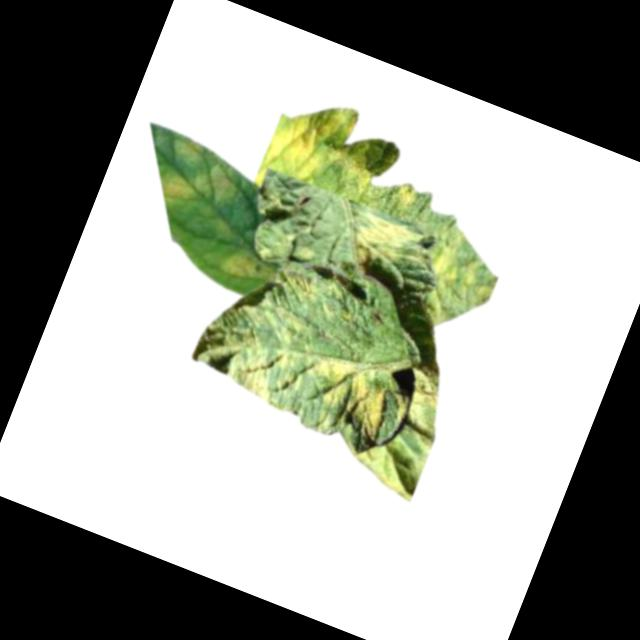Leaf_Mold: (259, 81, 392, 204), (409, 223, 511, 342), (291, 345, 401, 453), (148, 142, 246, 221), (341, 208, 423, 288), (217, 329, 296, 406), (395, 354, 453, 414), (218, 240, 280, 292), (276, 265, 321, 304), (166, 131, 205, 164), (388, 177, 423, 213)
